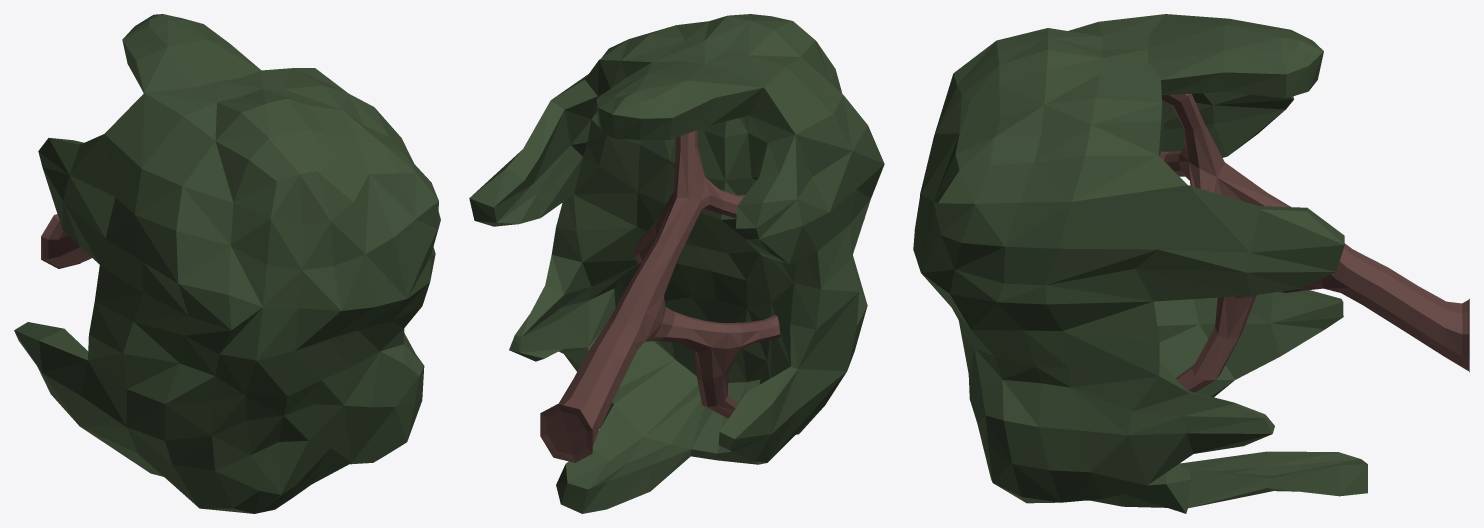
File: tree-willow-4-28-ft.obj
The picture shows the model from 3 angles, left to right: view 1: azimuth 30°, elevation 25°; view 2: azimuth 150°, elevation 25°; view 3: azimuth 270°, elevation 25°; orthographic projection. The views are drawn at different scales.
Visible parts, largest first — view 1: tree-willow-4-28-ft; view 2: tree-willow-4-28-ft; view 3: tree-willow-4-28-ft.
Boxes of the visible parts, bbox=[...] form: tree-willow-4-28-ft: bbox=[14, 14, 440, 513]; tree-willow-4-28-ft: bbox=[469, 14, 884, 513]; tree-willow-4-28-ft: bbox=[913, 14, 1469, 513].
Bounding box in the file's own units: 217 × 302 × 336.
